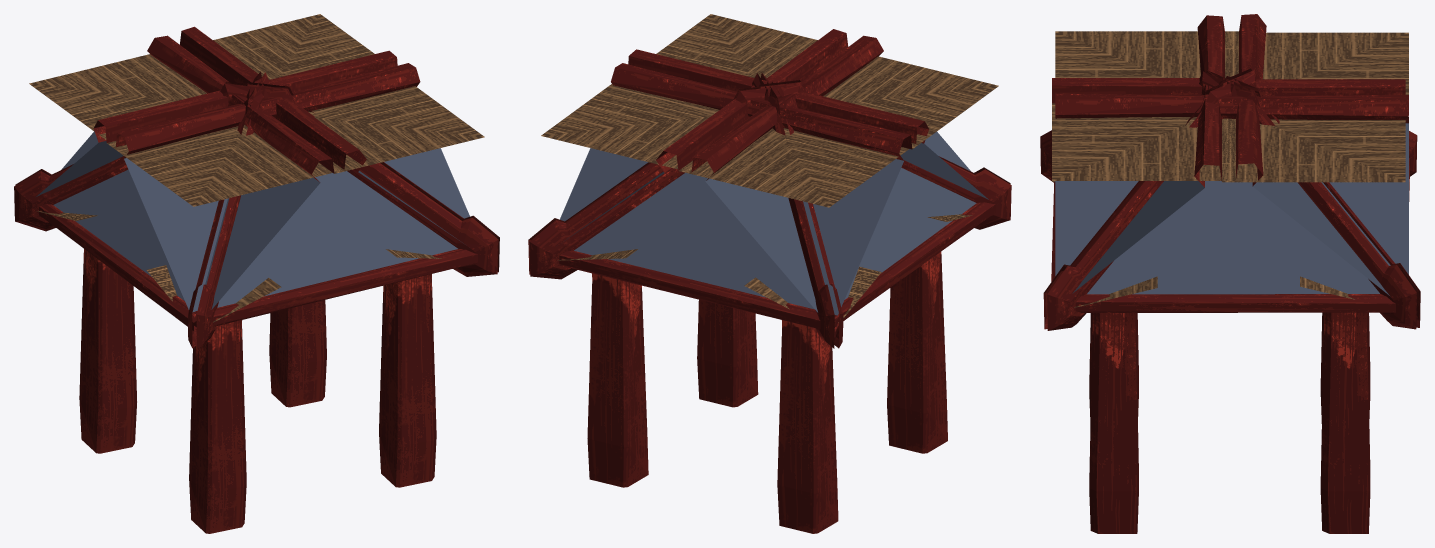
File: city_t2_asian.glb
The picture shows the model from 3 angles, left to right: view 1: azimuth 30°, elevation 25°; view 2: azimuth 150°, elevation 25°; view 3: azimuth 270°, elevation 25°; orthographic projection. The views are drawn at different scales.
Parts seen in each view (by area): view 1: TempleRoof01Corner_Art_17, TempleRoof01Corner_Art_19, TempleRoof01Corner_Art_18; view 2: TempleRoof01Corner_Art_17, TempleRoof01Corner_Art_19, TempleRoof01Corner_Art_18; view 3: TempleRoof01Corner_Art_17, TempleRoof01Corner_Art_18, TempleRoof01Corner_Art_19.
Part boxes in pixels (x1,y1,x2,y2): TempleRoof01Corner_Art_17: (14, 26, 499, 533); TempleRoof01Corner_Art_19: (36, 131, 469, 312); TempleRoof01Corner_Art_18: (29, 14, 484, 322); TempleRoof01Corner_Art_17: (528, 29, 1011, 533); TempleRoof01Corner_Art_19: (560, 131, 988, 315); TempleRoof01Corner_Art_18: (541, 14, 998, 322); TempleRoof01Corner_Art_17: (1040, 14, 1420, 533); TempleRoof01Corner_Art_18: (1052, 31, 1408, 307); TempleRoof01Corner_Art_19: (1055, 123, 1408, 295).
Bounding box in the file's own units: 9.21 × 10.54 × 9.21.
4 materials, 3 textured.
